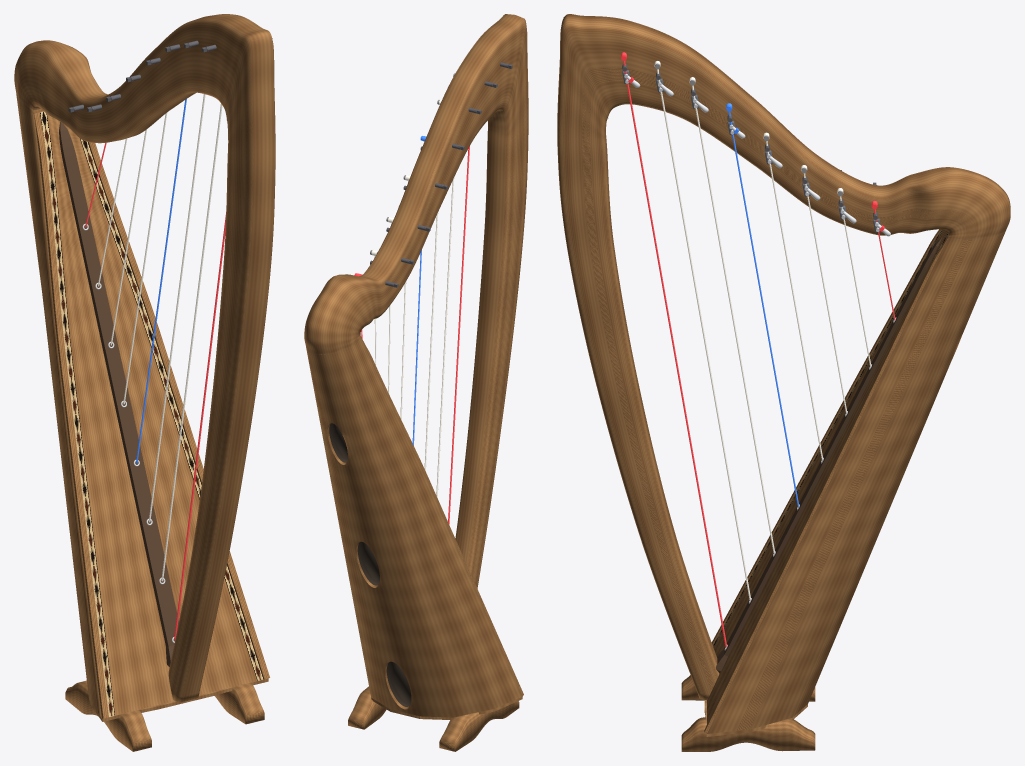
Rendered from celtic_harp_8string.glb.
The picture shows the model from 3 angles, left to right: view 1: azimuth 30°, elevation 25°; view 2: azimuth 150°, elevation 25°; view 3: azimuth 270°, elevation 25°; orthographic projection. The views are drawn at different scales.
Parts seen in each view (by area): view 1: Harp_Harmonic_Frame, Harp_Soundboard_Face, Harp_Central_String_Rib, Harp_Soundboard_EdgeRail_-1, Harp_Diamond_Purfling_-1, Harp_Diamond_Purfling_1, Harp_Soundboard_EdgeRail_1, Harp_Leg_1, Harp_Leg_2, String_2, String_1, String_3 (+4 smaller); view 2: Harp_Harmonic_Frame, Harp_Leg_1, Harp_Soundboard_EdgeRail_-1, Harp_Leg_2, String_1, Harp_Rear_Soundhole_1, String_2, Harp_Rear_Soundhole_2, String_3, Harp_Rear_Soundhole_3, Harp_Bottom_Plate, String_4; view 3: Harp_Harmonic_Frame, Harp_Soundboard_Face, Harp_Central_String_Rib, Harp_Leg_2, Harp_Soundboard_EdgeRail_1, Harp_Soundboard_EdgeRail_-1, String_1, String_2, String_3, Harp_Diamond_Purfling_-1, String_4.
Part boxes in pixels (x1=…): Harp_Harmonic_Frame: x1=14, y1=14, x2=275, y2=718; Harp_Soundboard_Face: x1=47, y1=114, x2=257, y2=715; Harp_Central_String_Rib: x1=59, y1=122, x2=178, y2=666; Harp_Soundboard_EdgeRail_-1: x1=34, y1=112, x2=108, y2=718; Harp_Diamond_Purfling_-1: x1=40, y1=111, x2=114, y2=716; Harp_Diamond_Purfling_1: x1=80, y1=138, x2=263, y2=680; Harp_Soundboard_EdgeRail_1: x1=88, y1=142, x2=269, y2=679; Harp_Leg_1: x1=65, y1=680, x2=151, y2=751; Harp_Leg_2: x1=214, y1=683, x2=264, y2=724; String_2: x1=161, y1=104, x2=222, y2=581; String_1: x1=174, y1=212, x2=226, y2=640; String_3: x1=148, y1=94, x2=205, y2=522; Harp_Harmonic_Frame: x1=304, y1=14, x2=528, y2=717; Harp_Leg_1: x1=439, y1=701, x2=519, y2=751; Harp_Soundboard_EdgeRail_-1: x1=362, y1=339, x2=523, y2=696; Harp_Leg_2: x1=348, y1=686, x2=386, y2=729; String_1: x1=448, y1=146, x2=469, y2=524; Harp_Rear_Soundhole_1: x1=386, y1=661, x2=411, y2=706; String_2: x1=436, y1=177, x2=454, y2=497; Harp_Rear_Soundhole_2: x1=357, y1=542, x2=379, y2=585; String_3: x1=424, y1=212, x2=438, y2=471; Harp_Rear_Soundhole_3: x1=329, y1=423, x2=347, y2=462; Harp_Bottom_Plate: x1=371, y1=697, x2=522, y2=719; String_4: x1=412, y1=250, x2=421, y2=445; Harp_Harmonic_Frame: x1=557, y1=14, x2=1010, y2=733; Harp_Soundboard_Face: x1=707, y1=230, x2=947, y2=723; Harp_Central_String_Rib: x1=716, y1=237, x2=941, y2=673; Harp_Leg_2: x1=681, y1=717, x2=815, y2=751; Harp_Soundboard_EdgeRail_1: x1=704, y1=236, x2=947, y2=733; Harp_Soundboard_EdgeRail_-1: x1=711, y1=229, x2=940, y2=645; String_1: x1=624, y1=71, x2=726, y2=647; String_2: x1=658, y1=79, x2=750, y2=600; String_3: x1=693, y1=96, x2=774, y2=554; Harp_Diamond_Purfling_-1: x1=713, y1=229, x2=942, y2=647; String_4: x1=730, y1=122, x2=798, y2=507.
Size of the model in its own units: 0.3294 by 1.41 by 0.823.
17 materials, 2 textured.
